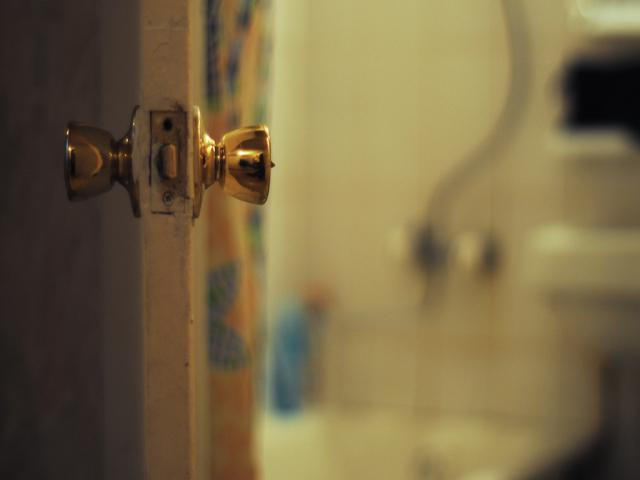Door-handle: (192, 104, 276, 218), (65, 104, 139, 220)
